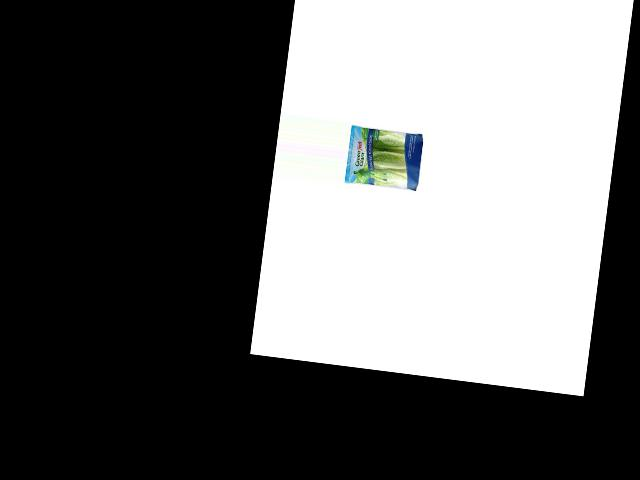lettuce: (347, 124, 427, 193)
